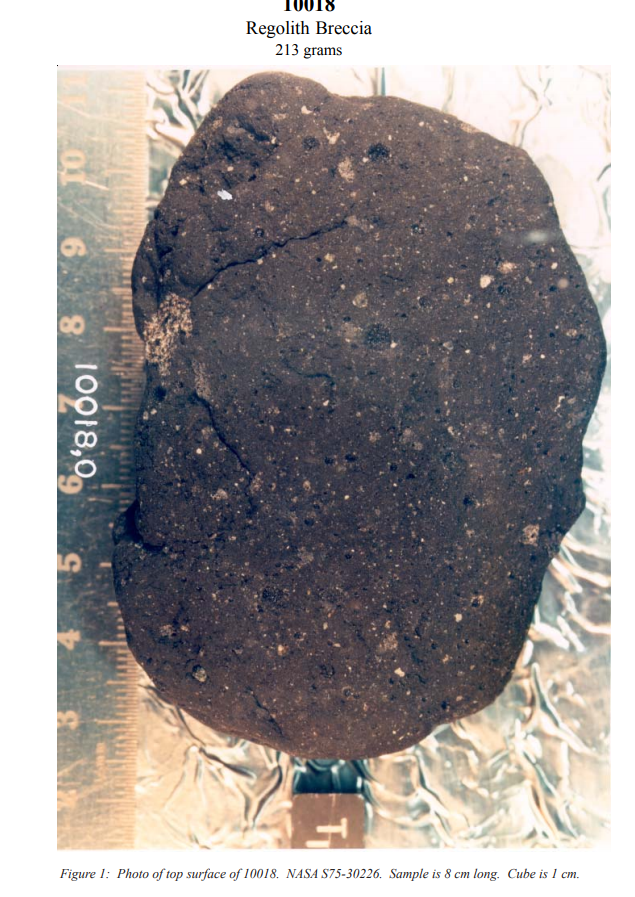Breccia: (119, 75, 613, 770), (145, 231, 520, 641)
